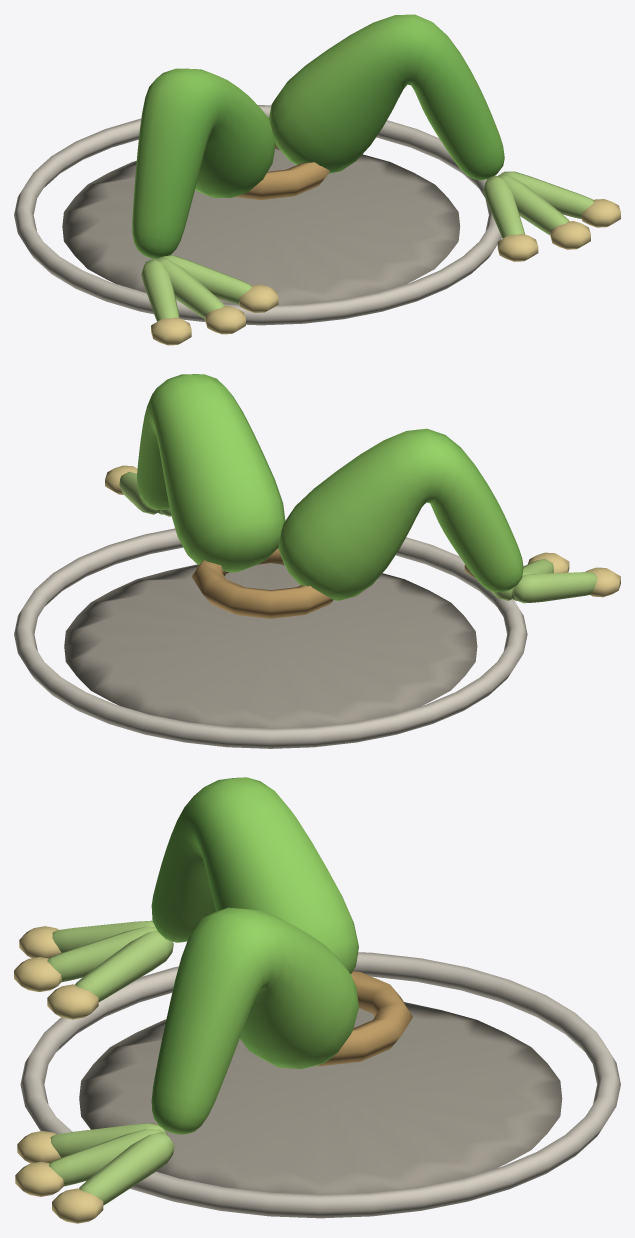
File: ing_leg.glb
3 renders of one model, top to bottom at view 1: azimuth 30°, elevation 25°; view 2: azimuth 150°, elevation 25°; view 3: azimuth 270°, elevation 25°, orthographic. The views are drawn at different scales.
Visible parts, largest first — view 1: ing_leg; view 2: ing_leg; view 3: ing_leg.
Boxes of the visible parts, x1,y1,x2,y2 form: ing_leg: (14,14,620,345); ing_leg: (14,374,620,748); ing_leg: (14,777,620,1223).
Bounding box in the file's own units: 0.4497 × 0.2093 × 0.4063.
